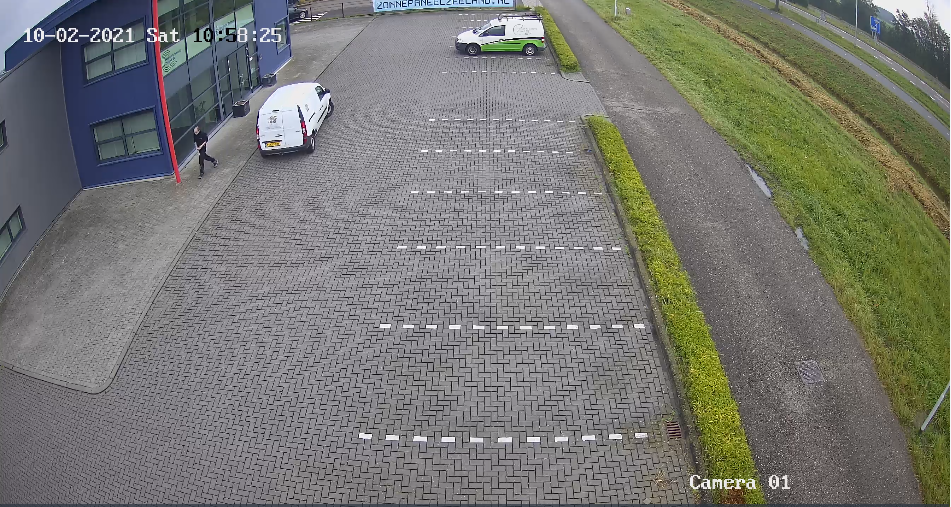werkbus: (248, 72, 340, 164), (446, 9, 553, 60)
